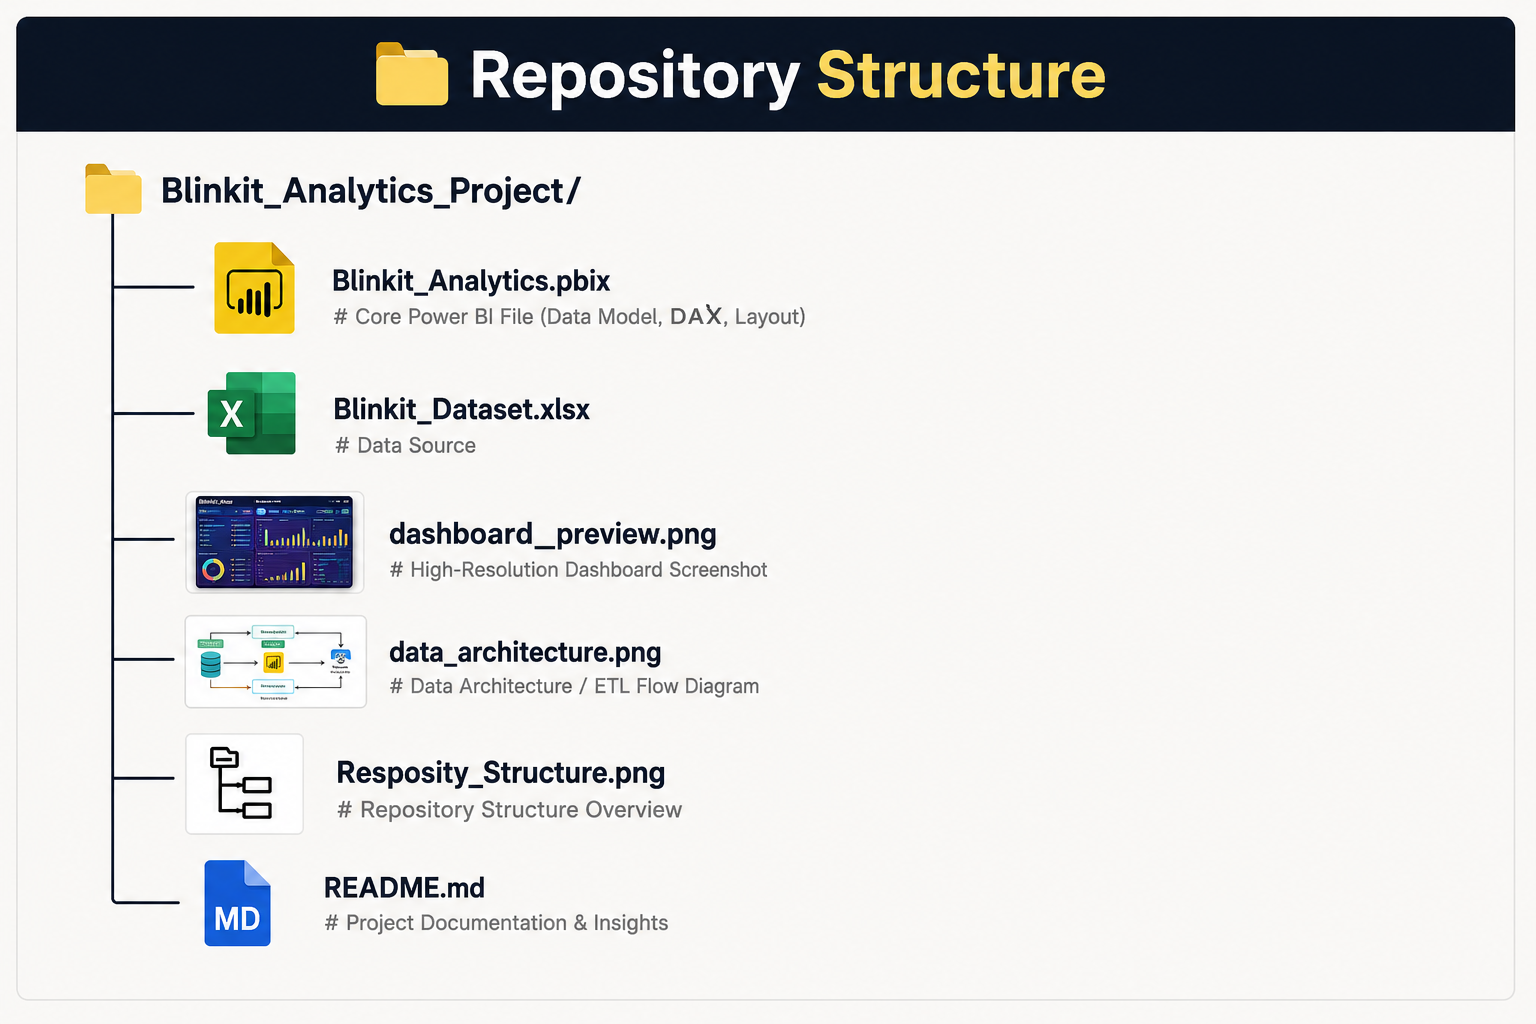

What the dashboard file says about the page in this screenshot:
{"tool":"powerbi","page":{"name":"Page 1","canvas":[1920,1080],"ordinal":0},"visuals":[{"type":"slicer","title":"Date Filter","fields":{"Values":["Marketing.date"]},"box":[1632.3,117.6,275.1,101.3],"z":0},{"type":"slicer","title":"Category Filter","fields":{"Values":["Products.category"]},"box":[1632.3,405.4,275.1,86.9],"z":1000},{"type":"slicer","title":"Area Filter","fields":{"Values":["Products.category"]},"box":[1632.3,224.4,275.1,94.1],"z":2000},{"type":"slicer","title":"Customer Segment","fields":{"Values":["Customer.customer_segment"]},"box":[1632.3,320.3,275.1,81.4],"z":3000},{"type":"lineChart","title":"Total Revenue by Date","fields":{"Y":["Marketing.Total Revenue"],"Category":["Marketing.date"]},"box":[10,220,580,272],"z":4000},{"type":"columnChart","title":"Total Price by Category","fields":{"Category":["Products.category"],"Y":["Sum(Products.price)"]},"box":[10,498,580,262],"z":5000},{"type":"columnChart","title":"Revenue by Area","fields":{"Category":["Customer.area"],"Y":["Products.Revenue by Area"]},"box":[595.4,220.8,1022.5,271.4],"z":6000},{"type":"tableEx","title":"Top 7 Product with Price","fields":{"Values":["Products.product_name","Sum(Products.price)"]},"box":[10.9,767.3,269.6,313.1],"z":7000},{"type":"tableEx","title":"Rating Count","fields":{"Values":["Customer Feedback.rating","CountNonNull(Customer Feedback.feedback_id)"]},"box":[284.1,767.3,307.6,298.6],"z":8000},{"type":"columnChart","title":"Channel Spent","fields":{"Category":["Marketing.channel"],"Y":["Sum(Marketing.spend)","Sum(Marketing.revenue_generated)"]},"box":[595.4,497.7,635.2,262.4],"z":9000},{"type":"gauge","fields":{"Y":["Delivery Performance.On-Time Delivery %"]},"box":[1243.2,497.7,664.1,262.4],"z":10000},{"type":"clusteredBarChart","title":"Brand by Price","fields":{"Category":["Products.brand"],"Y":["Sum(Order items.unit_price)"]},"box":[596,768,1312,298],"z":11000},{"type":"textbox","box":[10.9,5.4,1896.5,76],"z":12000},{"type":"cardVisual","fields":{"Data":["Marketing.Total Revenue","Orders.Total Orders","Customer.Total Customers","Orders.Avg Order Value","Customer Feedback.Avg Customer Rating","Delivery Performance.On-Time Delivery %","Marketing.Total Marketing Spend"]},"box":[10.9,99.5,1607,110.4],"z":13000},{"type":"textbox","box":[1632.3,85.1,255.2,29],"z":13001}]}

Visuals, with their boxes on the page's 1920x1080 design canvas (x1, y1, x2, y2). These are canvas units, not pixel positions in the 1536x1024 screenshot, which may show the page scaled, cropped or inside an application window:
"Date Filter" slicer: <region>1632, 118, 1907, 219</region>
"Category Filter" slicer: <region>1632, 405, 1907, 492</region>
"Area Filter" slicer: <region>1632, 224, 1907, 318</region>
"Customer Segment" slicer: <region>1632, 320, 1907, 402</region>
"Total Revenue by Date" lineChart: <region>10, 220, 590, 492</region>
"Total Price by Category" columnChart: <region>10, 498, 590, 760</region>
"Revenue by Area" columnChart: <region>595, 221, 1618, 492</region>
"Top 7 Product with Price" tableEx: <region>11, 767, 280, 1080</region>
"Rating Count" tableEx: <region>284, 767, 592, 1066</region>
"Channel Spent" columnChart: <region>595, 498, 1231, 760</region>
gauge - Delivery Performance.On-Time Delivery %: <region>1243, 498, 1907, 760</region>
"Brand by Price" clusteredBarChart: <region>596, 768, 1908, 1066</region>
textbox: <region>11, 5, 1907, 81</region>
cardVisual - Marketing.Total Revenue x Orders.Total Orders: <region>11, 100, 1618, 210</region>
textbox: <region>1632, 85, 1888, 114</region>
